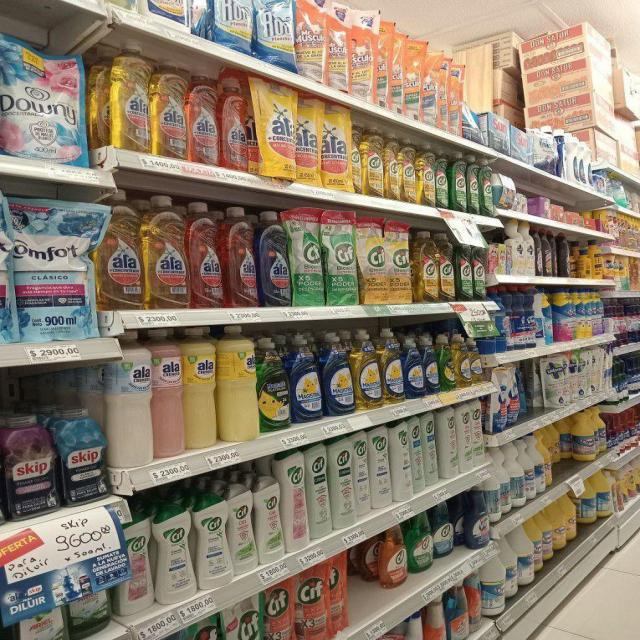ala_conc_amarillo: (98, 194, 142, 310), (144, 195, 188, 309), (108, 42, 150, 152), (152, 56, 186, 159)
ala_conc_azul: (259, 210, 291, 306)
ala_conc_rojo: (189, 201, 223, 308), (224, 207, 258, 308), (188, 66, 219, 165), (220, 69, 249, 172)
ala_crem_amarillo: (184, 327, 217, 450)
ala_crem_blanco: (106, 331, 152, 468)
ala_crem_rosado: (152, 327, 183, 460)
ala_sachet_amarillo: (258, 79, 295, 180), (322, 101, 352, 190), (296, 92, 321, 186)
cif_conc_bot_amarilla: (415, 230, 438, 303), (362, 128, 384, 197), (438, 233, 455, 302), (384, 134, 400, 200), (418, 142, 434, 207), (401, 137, 416, 204)
cif_conc_botella_verde: (456, 237, 472, 301), (450, 152, 467, 212), (435, 150, 449, 209), (480, 159, 494, 215), (473, 237, 485, 301), (467, 156, 480, 214)
cif_conc_sachet_amarillo: (359, 214, 387, 304), (386, 219, 414, 304), (240, 596, 261, 640), (221, 605, 240, 640)
cif_conc_sachet_verde: (291, 208, 324, 306), (325, 210, 357, 306)
magistral_con_amarillo: (354, 329, 381, 410), (382, 329, 404, 404), (440, 334, 454, 391), (456, 335, 470, 388), (470, 337, 484, 385)
magistral_con_azul: (290, 334, 322, 422), (324, 332, 354, 417), (404, 336, 423, 398), (424, 335, 439, 395)
